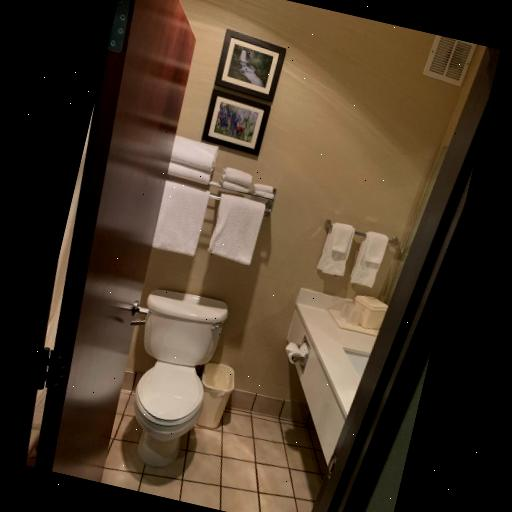clean_floor: (97, 388, 320, 512)
clean_sink: (284, 290, 388, 463)
clean_toilet: (108, 269, 233, 480)
folded_towel: (206, 193, 268, 265), (152, 185, 210, 259), (164, 136, 222, 191), (348, 227, 395, 293), (315, 218, 354, 280), (213, 160, 256, 200), (250, 182, 280, 204)
